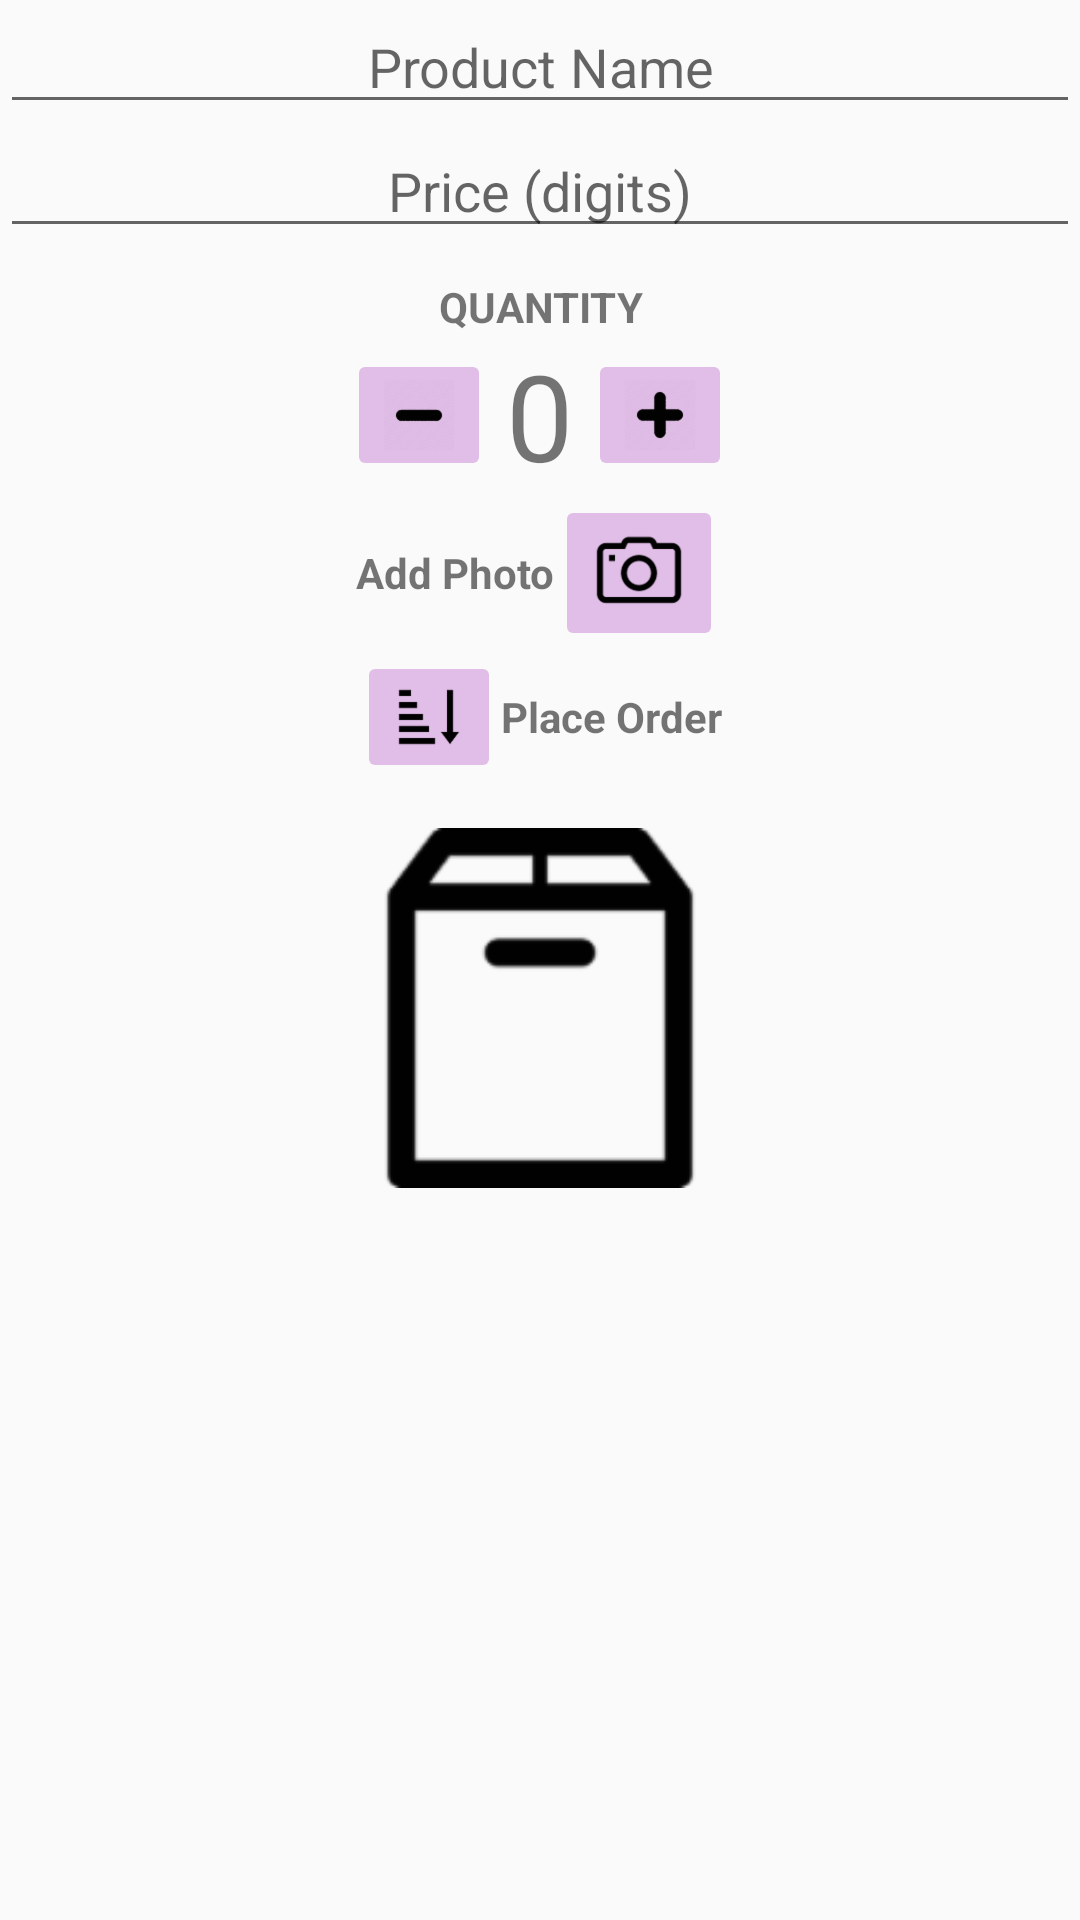

Point at icon controls on the screen. Image size 1080×1920, points as point (x, y).
camera icon: point (639, 573)
minus one: point (419, 415)
plus one: point (660, 415)
